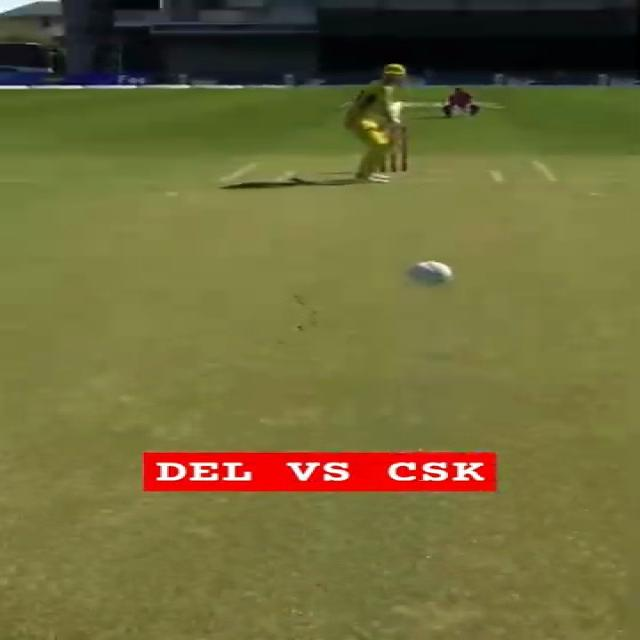ball: (407, 261, 452, 284)
